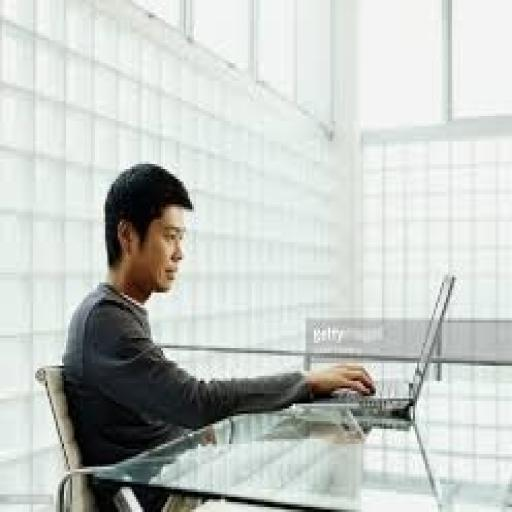using_laptop: (291, 270, 456, 424)
